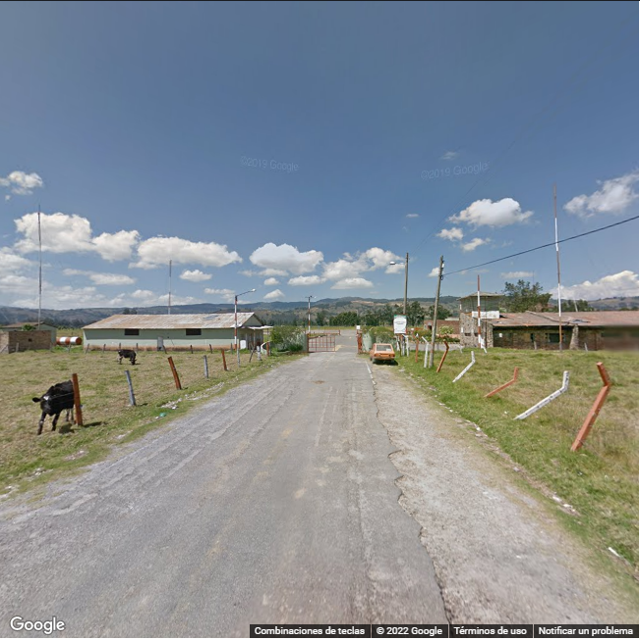D00: (124, 450, 205, 514), (68, 457, 144, 516), (351, 469, 372, 616)
